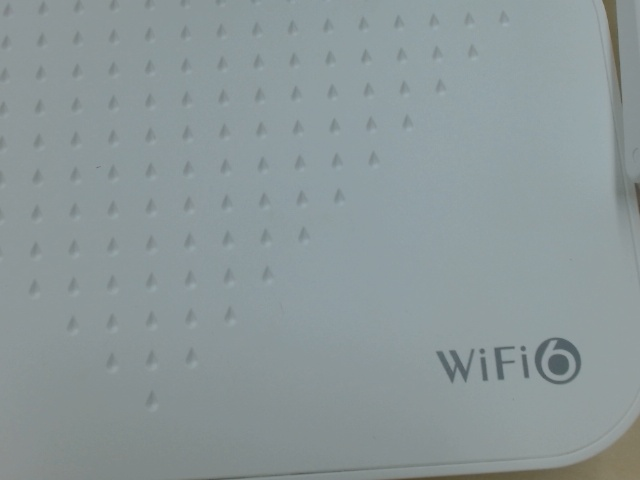AK_ZTEWIFI6: (426, 335, 585, 390)
